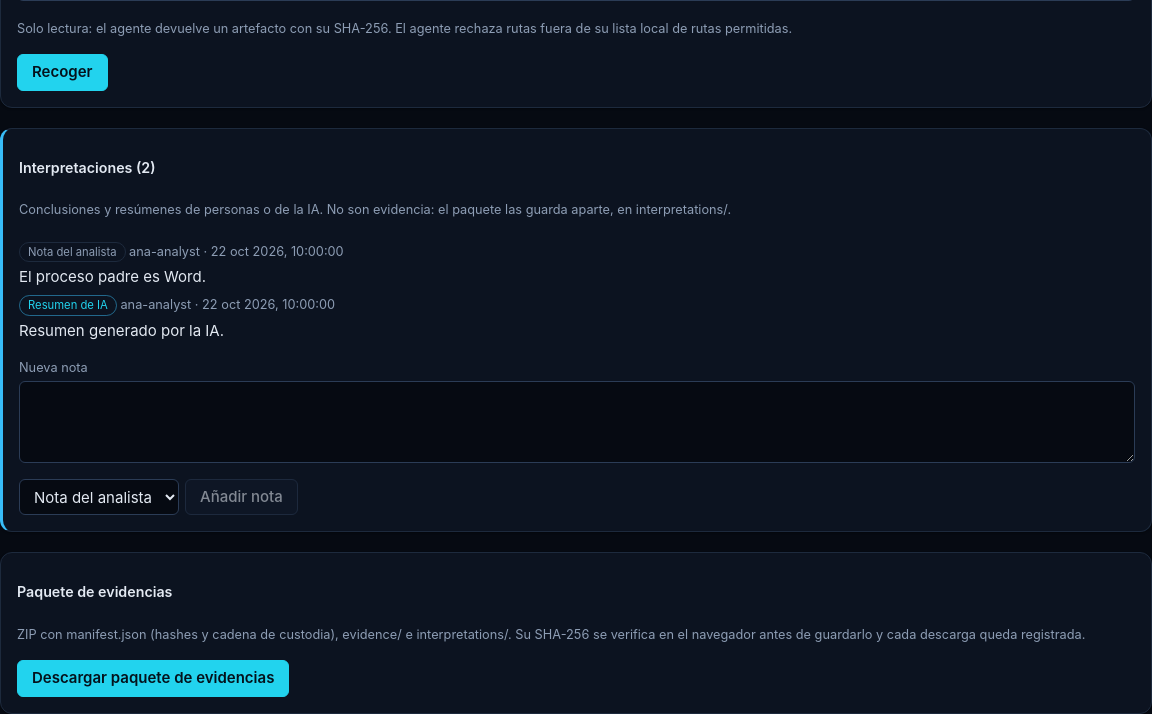
Test: InvestigationDetailPage › falla cerrado si el SHA-256 no coincide: no se guarda nada
(page scrolled)
Click the button "Descargar paquete de evidencias" at (153,679), box top-left (17, 660), bottom-right (289, 697)
(page scrolled)
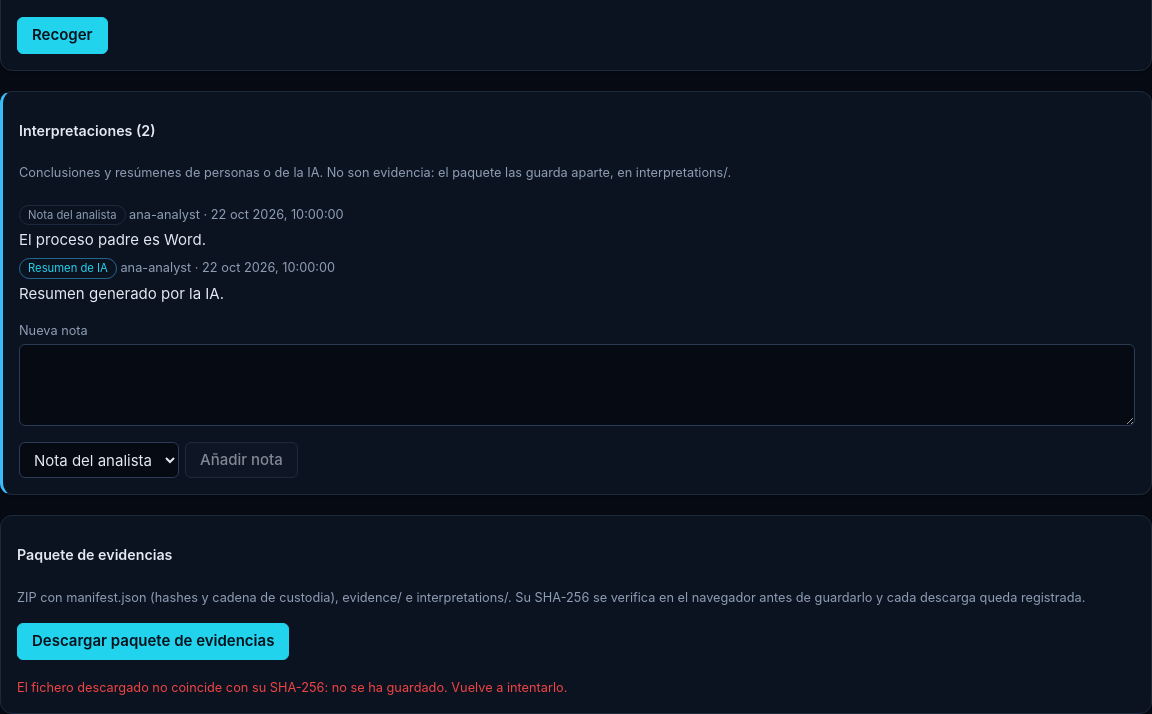
Check: the text "no coincide con su SHA-256: no se ha guardado" is shown, box top-left (17, 680), bottom-right (567, 695)
